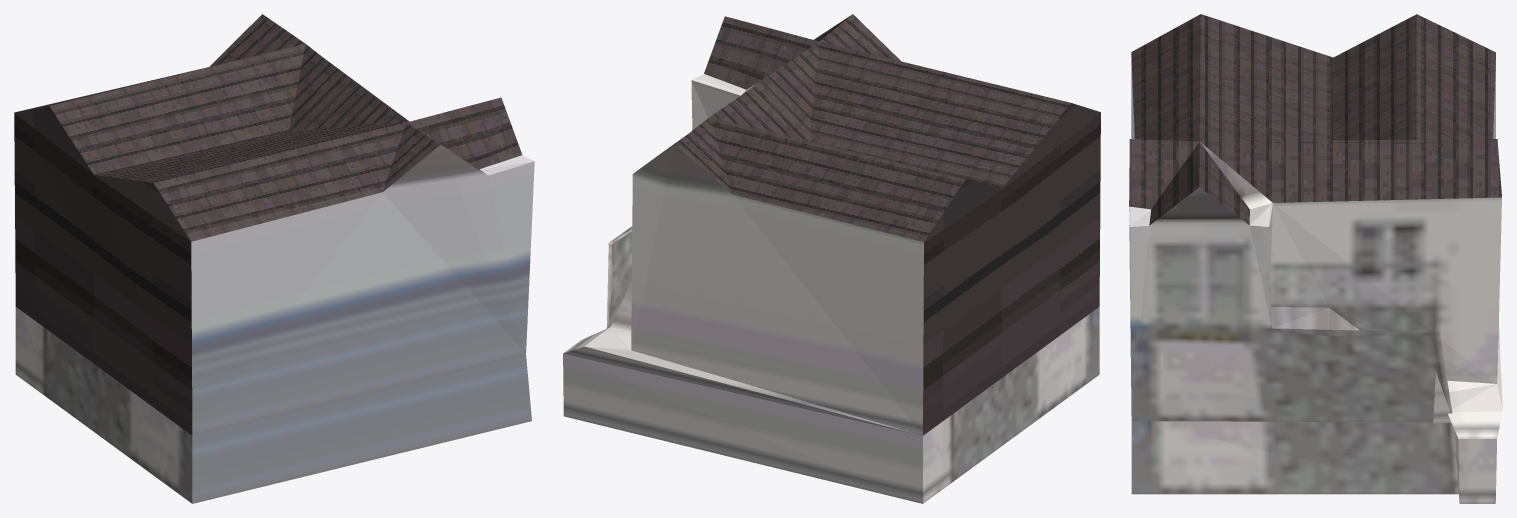
Rendered from lod_hse_04_sfxrf.obj.
The picture shows the model from 3 angles, left to right: view 1: azimuth 30°, elevation 25°; view 2: azimuth 150°, elevation 25°; view 3: azimuth 270°, elevation 25°; orthographic projection. The views are drawn at different scales.
Visible parts, largest first — view 1: LOD_hse_04_SFXRF; view 2: LOD_hse_04_SFXRF; view 3: LOD_hse_04_SFXRF.
Part boxes in pixels (left/top/right/bottom): LOD_hse_04_SFXRF: left=14, top=14, right=534, bottom=503; LOD_hse_04_SFXRF: left=563, top=14, right=1100, bottom=503; LOD_hse_04_SFXRF: left=1129, top=14, right=1502, bottom=503.
Bounding box in the file's own units: 11.21 × 8.8 × 9.66.
Materials: 2 (2 with a texture image).
